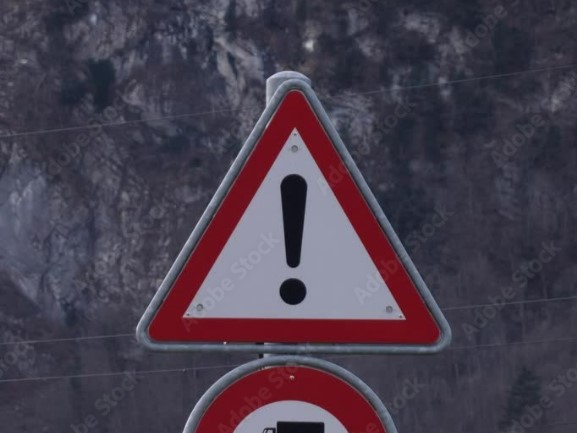Danger: (136, 76, 453, 359)
